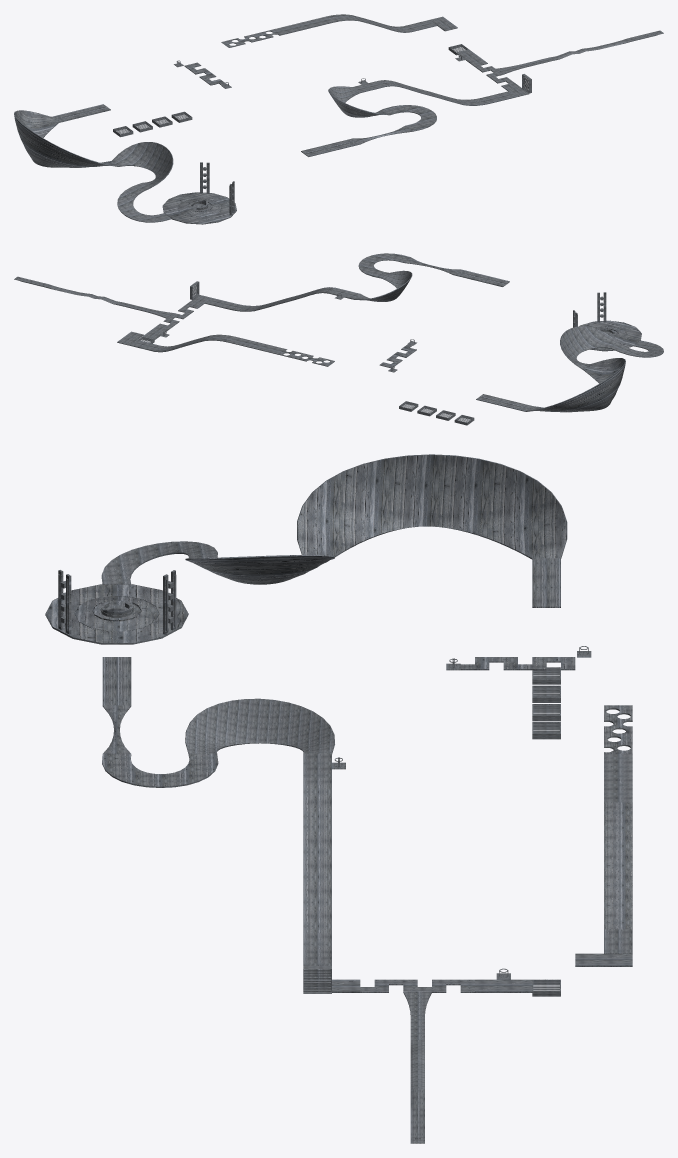
File: roundtrack_wood.DAE
3 views of the same model, one above another, from view 1: azimuth 30°, elevation 25°; view 2: azimuth 150°, elevation 25°; view 3: azimuth 270°, elevation 25° (orthographic). The views are drawn at different scales.
Visible parts, largest first — view 1: track_part_wood; view 2: track_part_wood; view 3: track_part_wood.
Boxes of the visible parts, box(x1,y1,x2,y2) form: track_part_wood: box(14, 14, 663, 224); track_part_wood: box(14, 253, 663, 425); track_part_wood: box(45, 454, 632, 1143).
Size of the model in its own units: 484 by 41.58 by 205.
